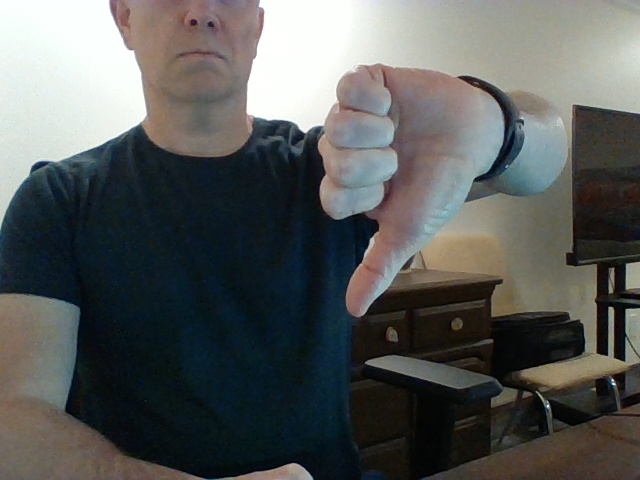ThumbsDown: (317, 64, 472, 318)
